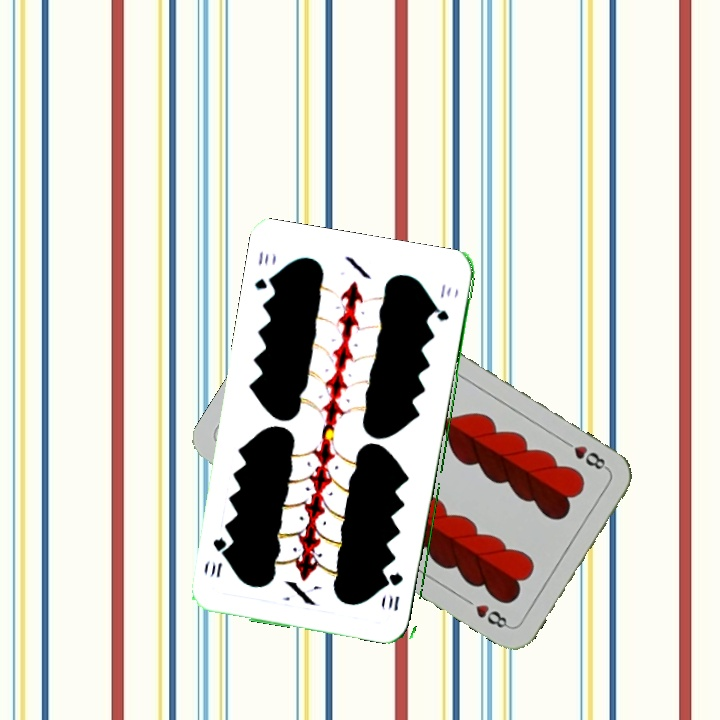G10: (250, 247, 278, 294), (384, 569, 406, 614)
H8: (558, 435, 611, 473)
